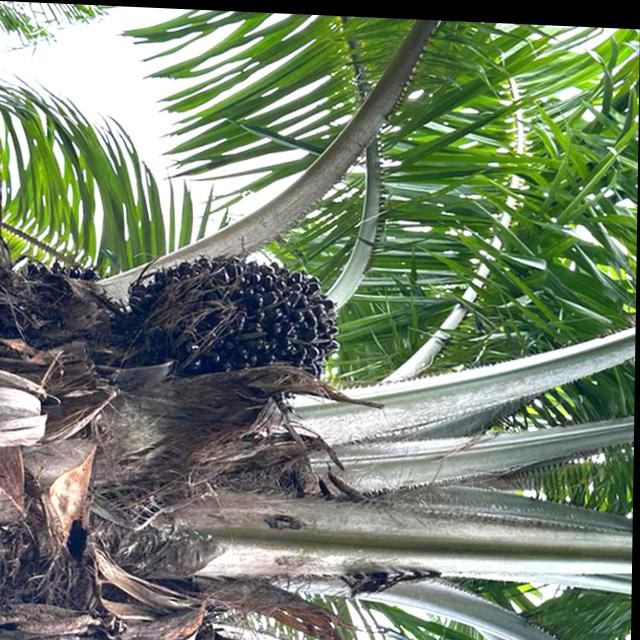unripe: (111, 235, 352, 399)
